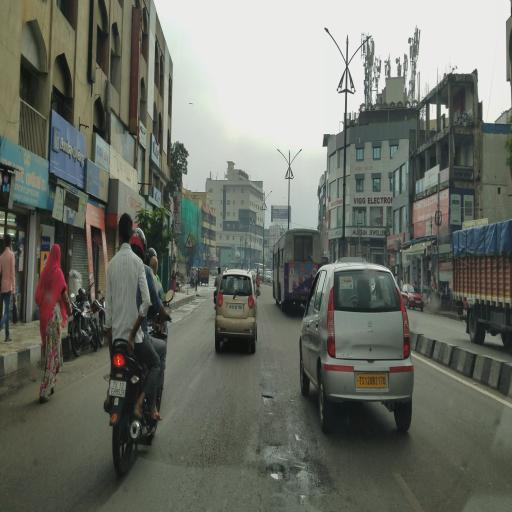street_light_0: (346, 29, 374, 79), (320, 19, 346, 69), (274, 146, 291, 178), (288, 147, 304, 179), (264, 188, 276, 208)
